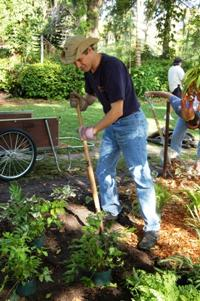person: (64, 34, 160, 254)
